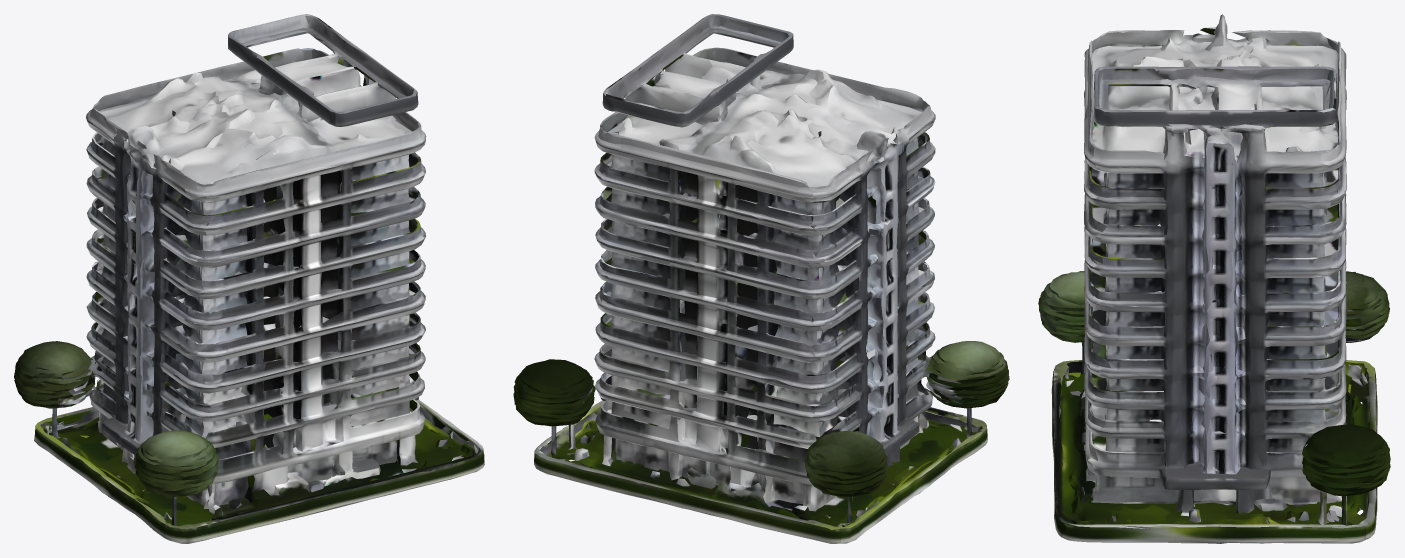
Rendered from flat.fbx.
The picture shows the model from 3 angles, left to right: view 1: azimuth 30°, elevation 25°; view 2: azimuth 150°, elevation 25°; view 3: azimuth 270°, elevation 25°; orthographic projection. The views are drawn at different scales.
Parts seen in each view (by area): view 1: tmphfd4kpez.ply; view 2: tmphfd4kpez.ply; view 3: tmphfd4kpez.ply.
Boxes of the visible parts, left/top/right/bottom form: tmphfd4kpez.ply: left=14, top=14, right=484, bottom=543; tmphfd4kpez.ply: left=513, top=14, right=1009, bottom=543; tmphfd4kpez.ply: left=1038, top=14, right=1390, bottom=543.
Bounding box in the file's own units: 199 × 199 × 156.
Materials: 1 (1 with a texture image).
